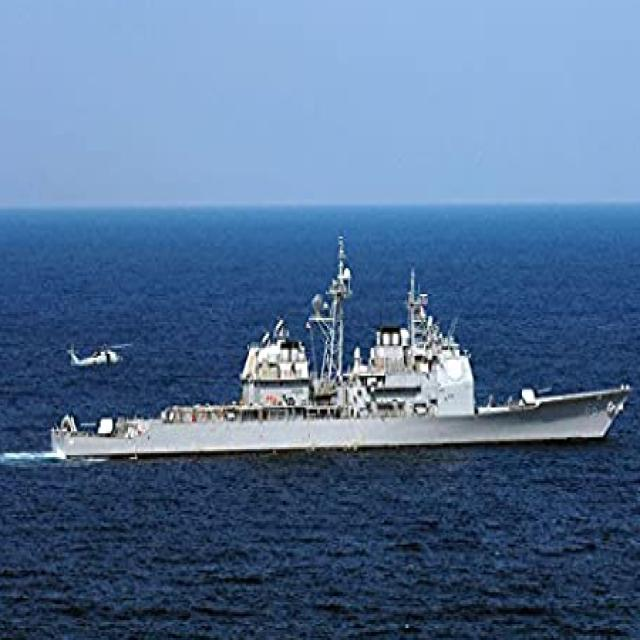navalvessels: (38, 245, 619, 470)
